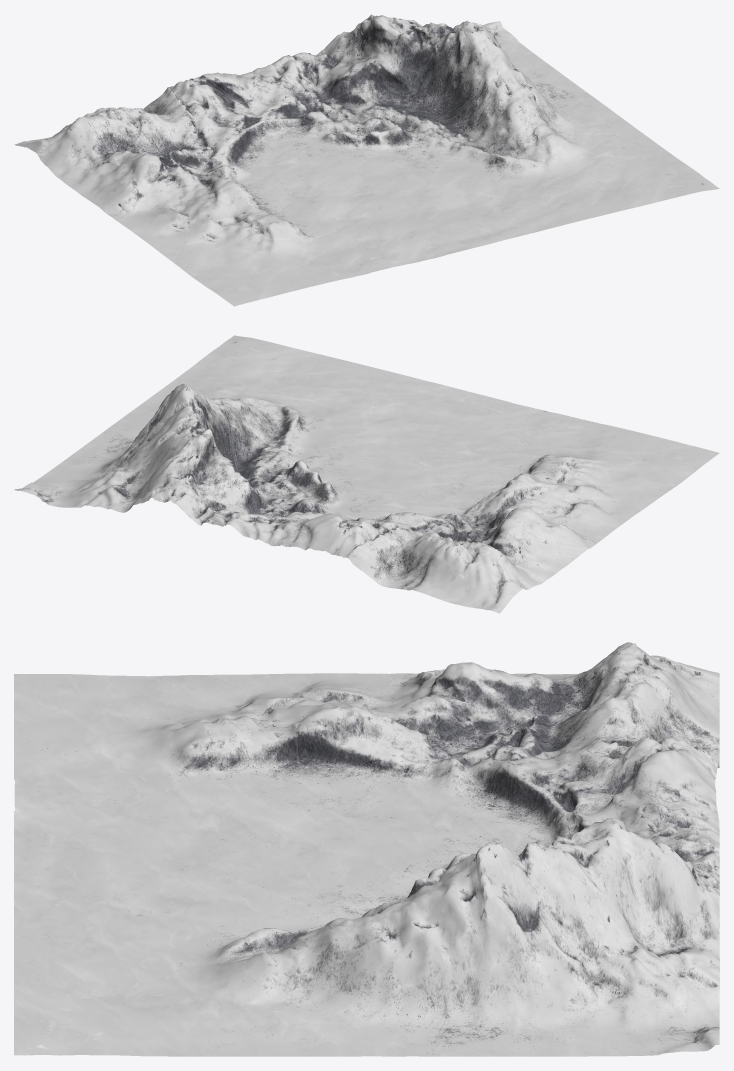
File: Mountain.glb
3 renders of one model, top to bottom at view 1: azimuth 30°, elevation 25°; view 2: azimuth 150°, elevation 25°; view 3: azimuth 270°, elevation 25°, orthographic. The views are drawn at different scales.
Visible parts, largest first — view 1: pPlane1; view 2: pPlane1; view 3: pPlane1.
Boxes of the visible parts, x1,y1,x2,y2 form: pPlane1: (14, 14, 719, 306); pPlane1: (14, 335, 719, 613); pPlane1: (14, 642, 719, 1056).
Size of the model in its own units: 1002 by 164 by 785.
1 material, 1 textured.
